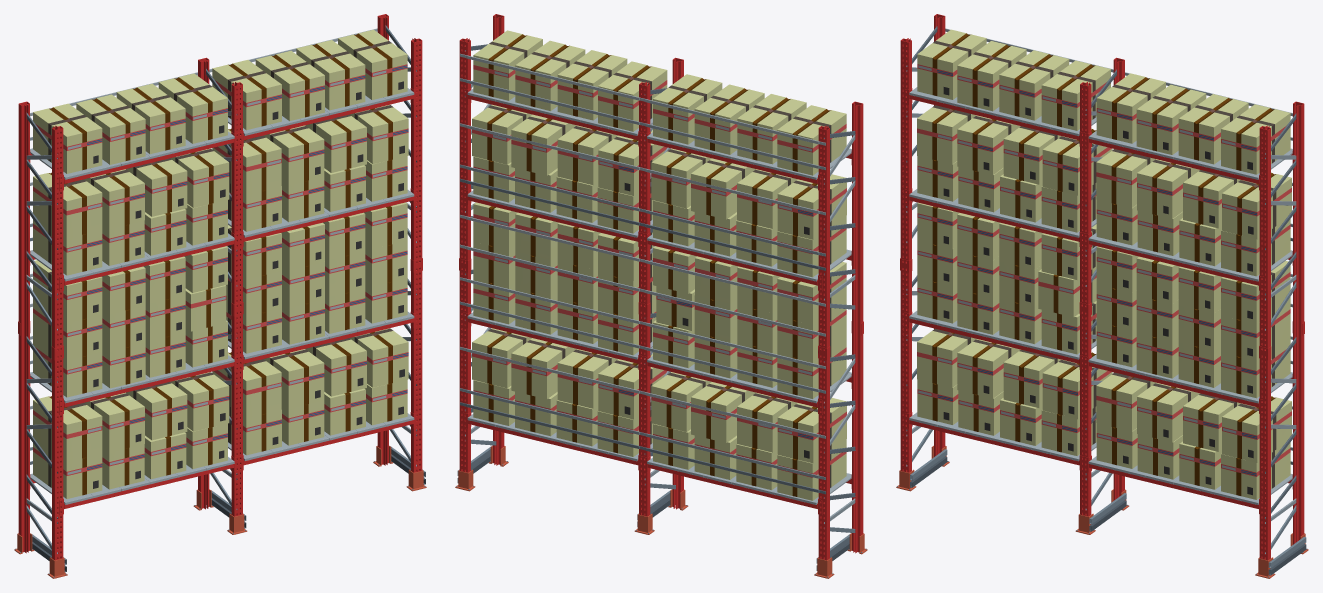
File: SM_ShelfBoxesx3_Red_D.fbx
3 views of the same model, side by side, from view 1: azimuth 30°, elevation 25°; view 2: azimuth 150°, elevation 25°; view 3: azimuth 330°, elevation 25° (orthographic).
Parts seen in each view (by area): view 1: SM_ShelfBoxesx3_Red_D; view 2: SM_ShelfBoxesx3_Red_D; view 3: SM_ShelfBoxesx3_Red_D.
Part boxes in pixels (x1=…): SM_ShelfBoxesx3_Red_D: x1=14, y1=14, x2=426, y2=578; SM_ShelfBoxesx3_Red_D: x1=455, y1=14, x2=867, y2=578; SM_ShelfBoxesx3_Red_D: x1=896, y1=14, x2=1308, y2=578.
Bounding box in the file's own units: 647 × 739 × 118.
